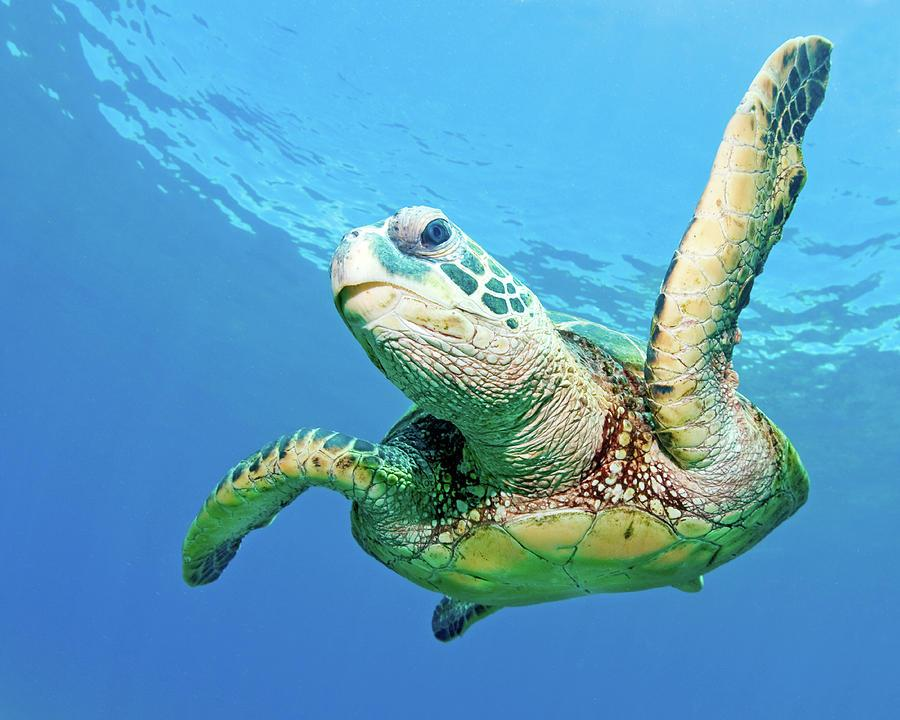turtle: (318, 202, 553, 410)
